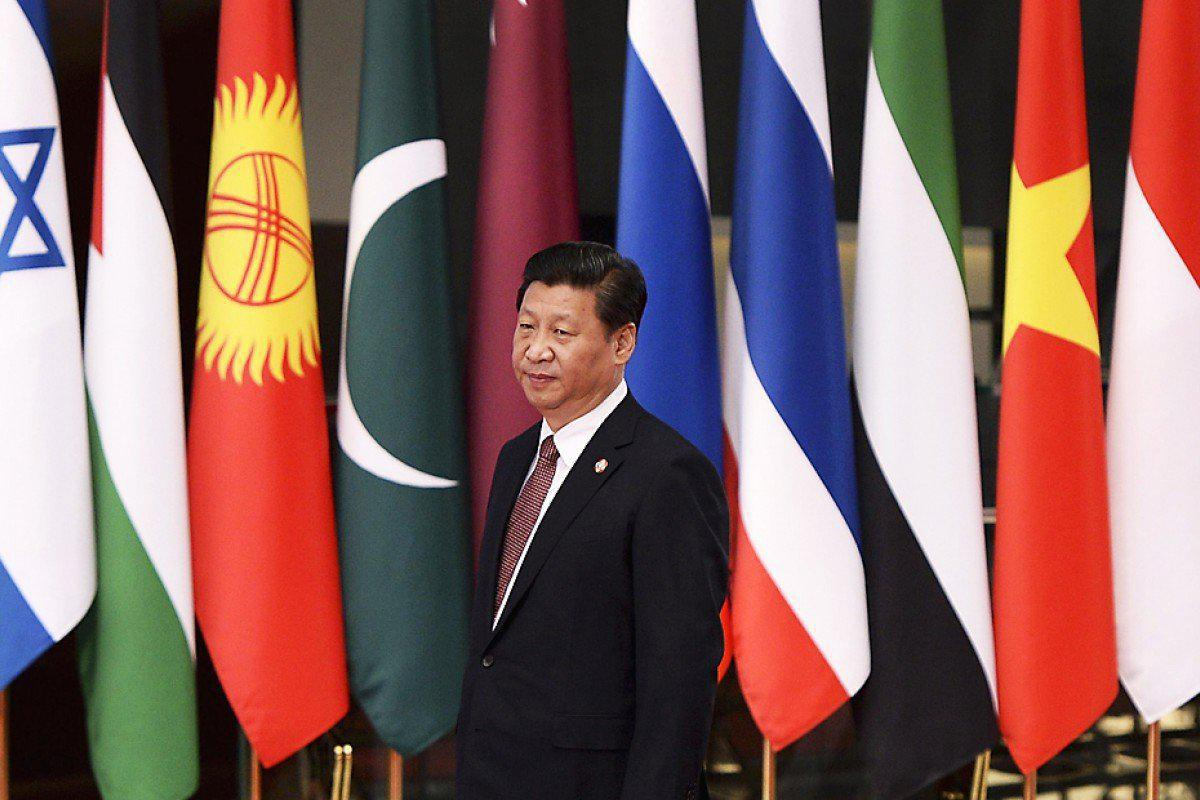Sober: (517, 285, 596, 412)
